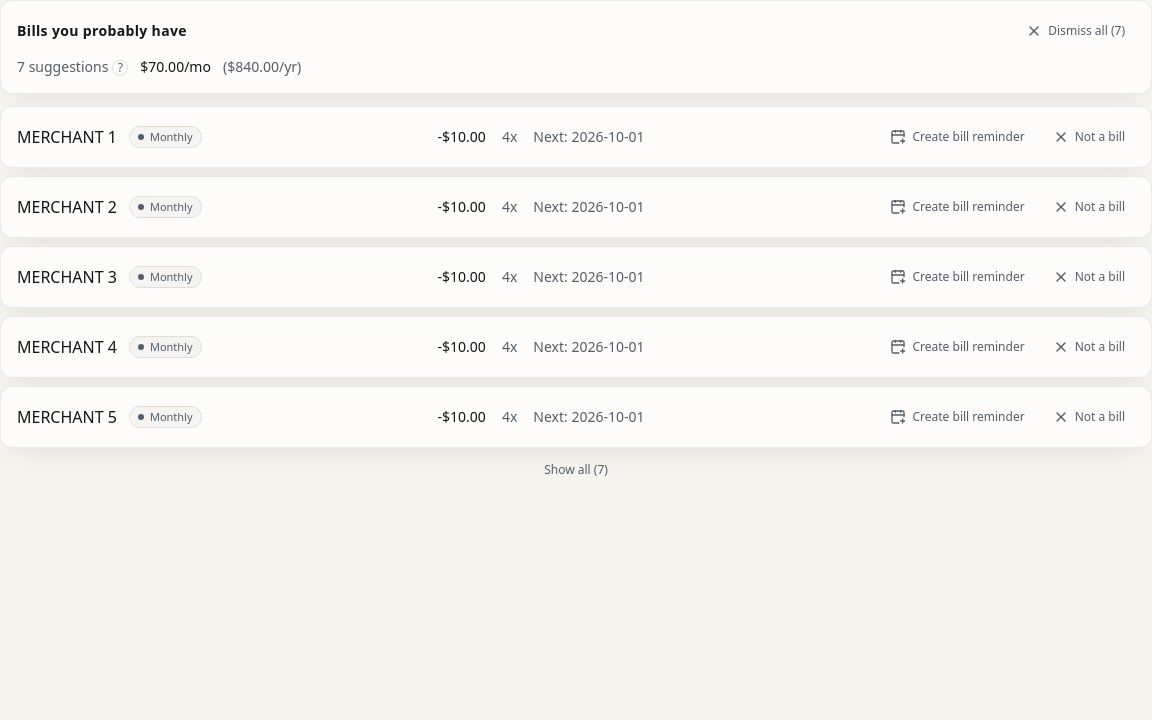
Test: cap + Show all (M133 D-4) › shows 5 rows and reveals the rest through Show all
The width and height of the screenshot is (1152, 720).
Expected: the number of buttons "Not a bill" is 5, 1043,123 -> 1135,151; 1043,193 -> 1135,221; 1043,263 -> 1135,291; 1043,333 -> 1135,361; 1043,403 -> 1135,431
Click the button "Show all (7)" at [576, 470], box 534,456 -> 618,484
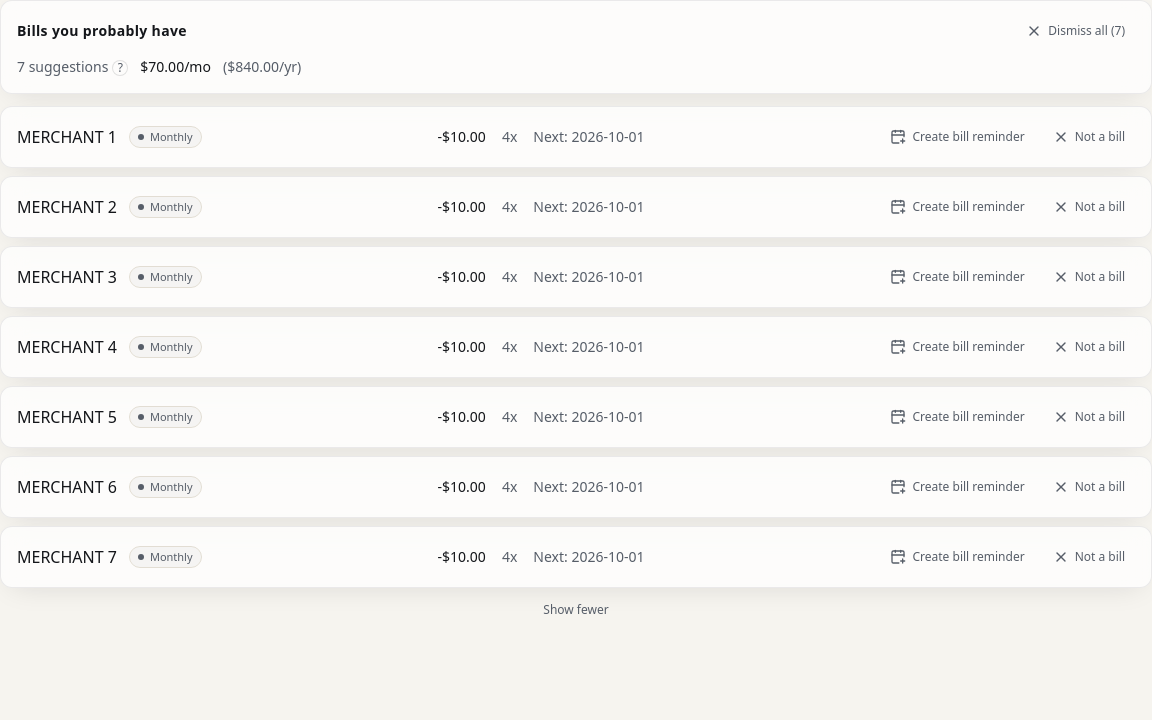
Now the number of buttons "Not a bill" is 7
Click the button "Show fewer" at [576, 610], box 533,596 -> 619,624
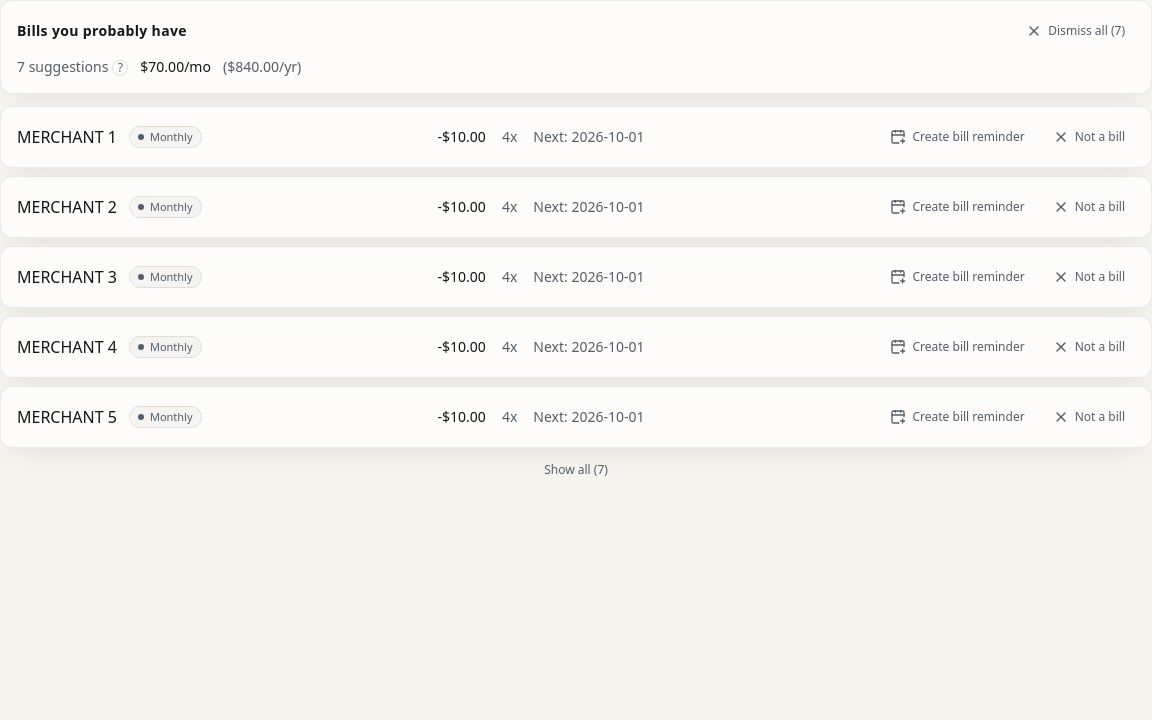
Now the number of buttons "Not a bill" is 5, box 1043,123 -> 1135,151; 1043,193 -> 1135,221; 1043,263 -> 1135,291; 1043,333 -> 1135,361; 1043,403 -> 1135,431
